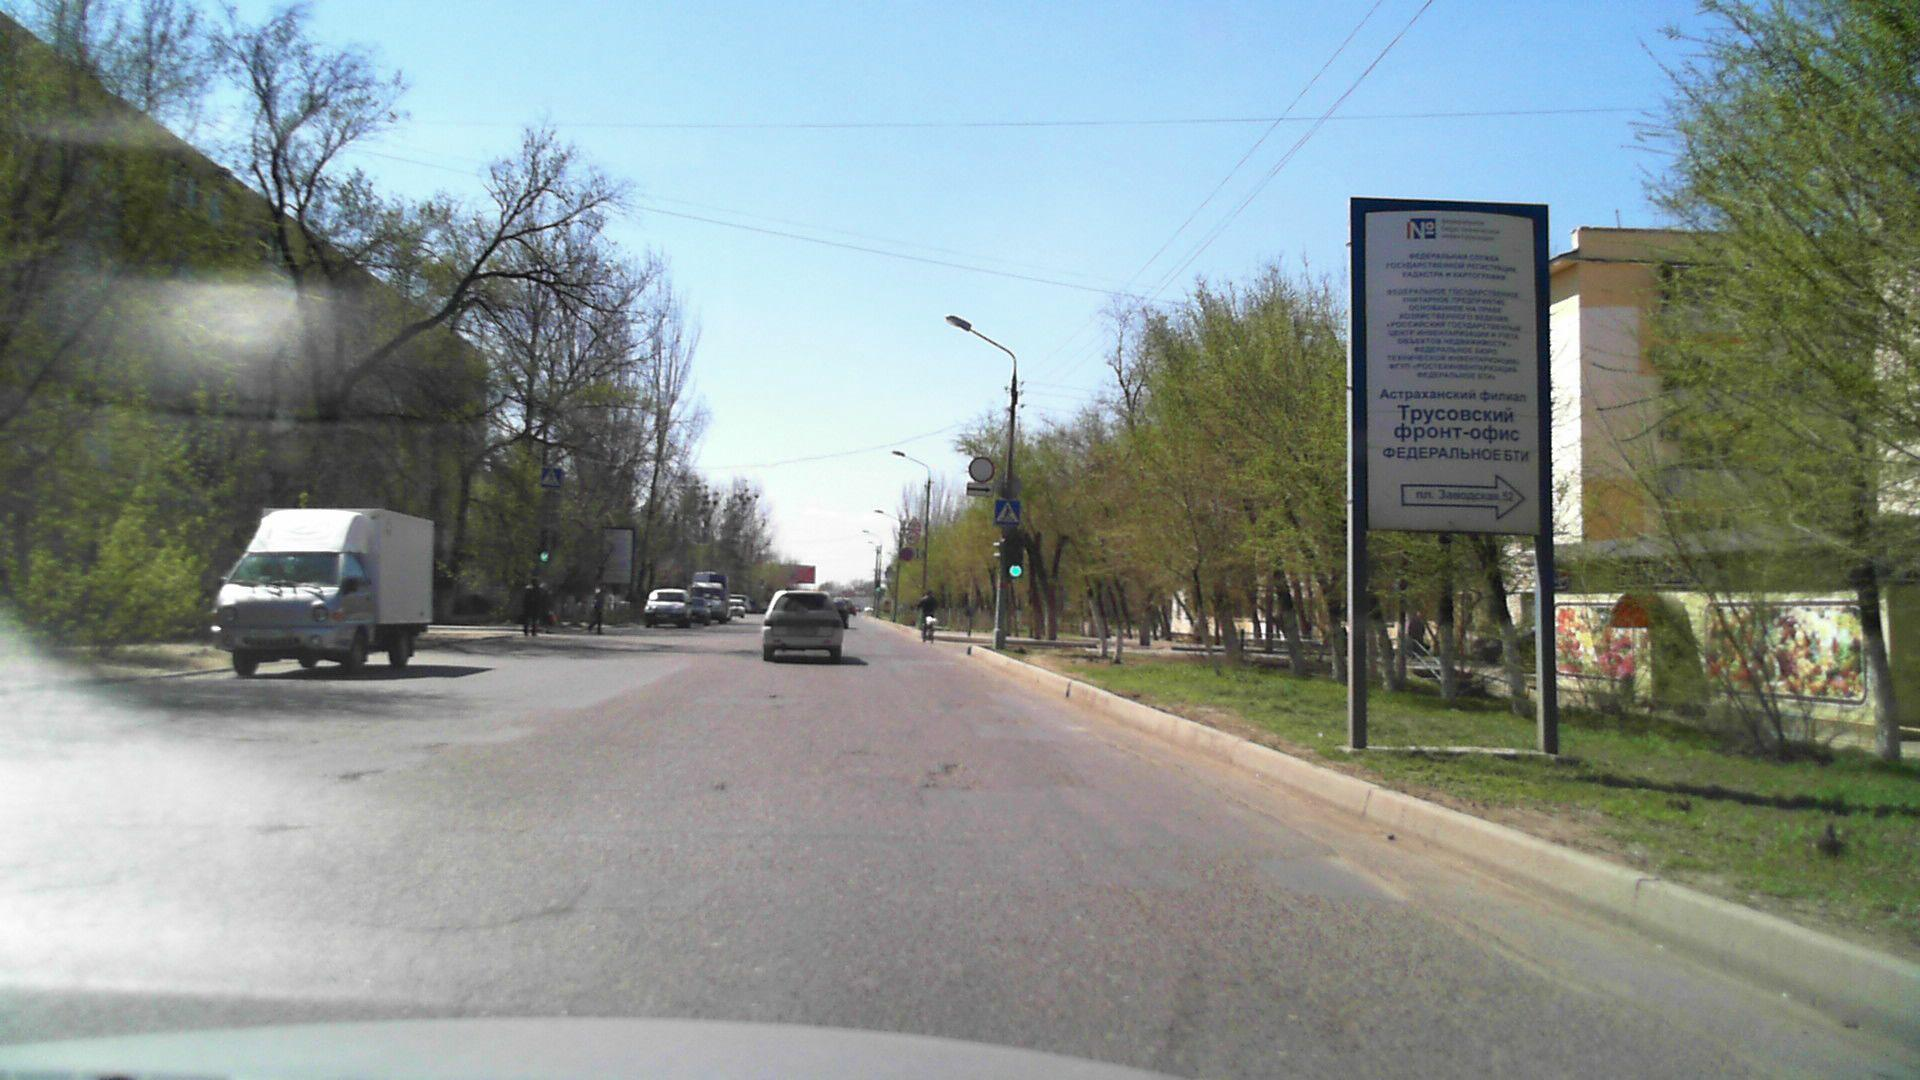1_23: (909, 517, 922, 530)
3_2: (967, 455, 993, 483)
3_24: (906, 531, 920, 543)
3_27: (901, 547, 913, 560)
5_19_1: (994, 500, 1018, 525)
5_19_2: (541, 467, 563, 488)
8_2_4: (914, 547, 922, 559)
8_3_1: (967, 483, 994, 497)
